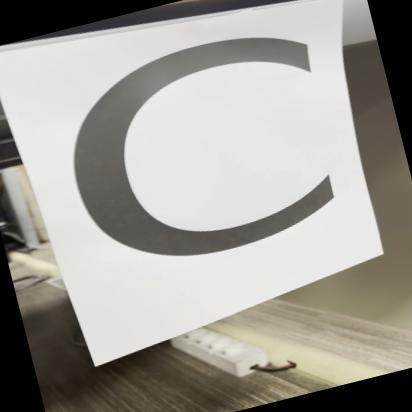seat: (0, 0, 392, 336)
